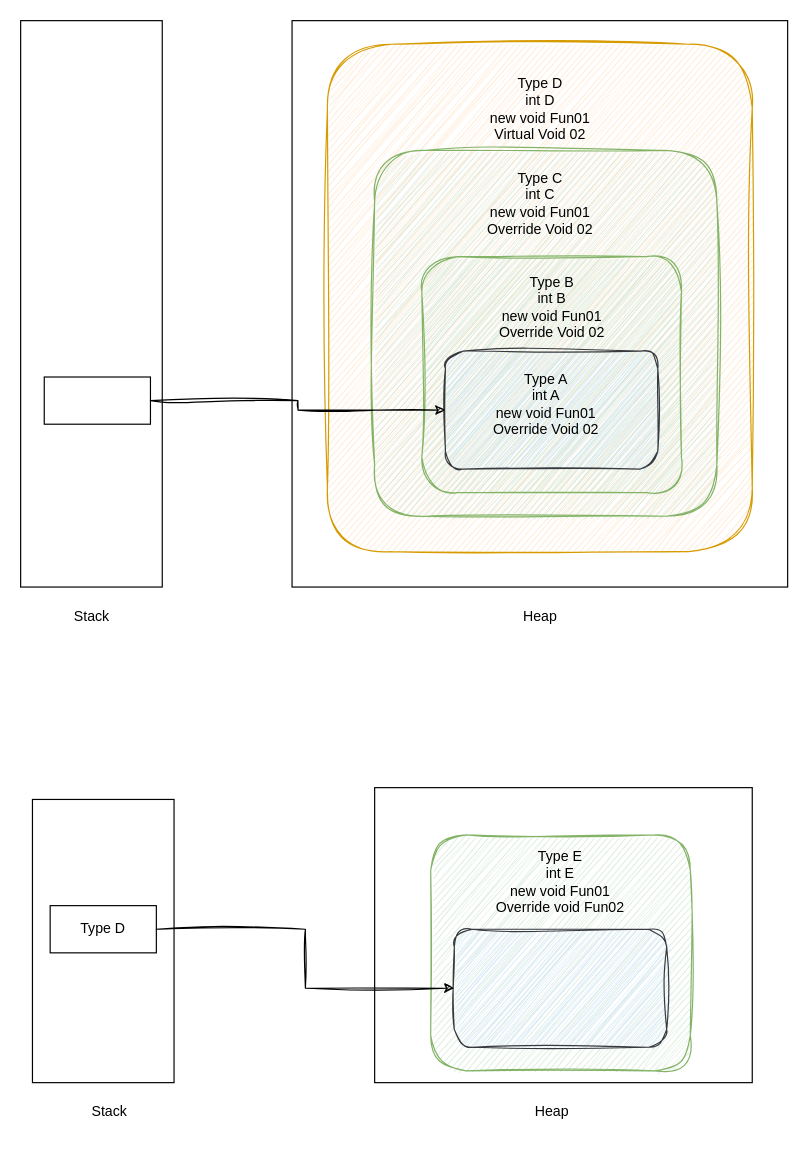
Image size: 808x1151. Some labels were removed from this diagram. Here are the shapes that lost their labels. From the top down, the centre of each, then its label:
the point at 96,400: Type A
the point at 560,987: Type D int D new void Fun01 virtual void Fun02
